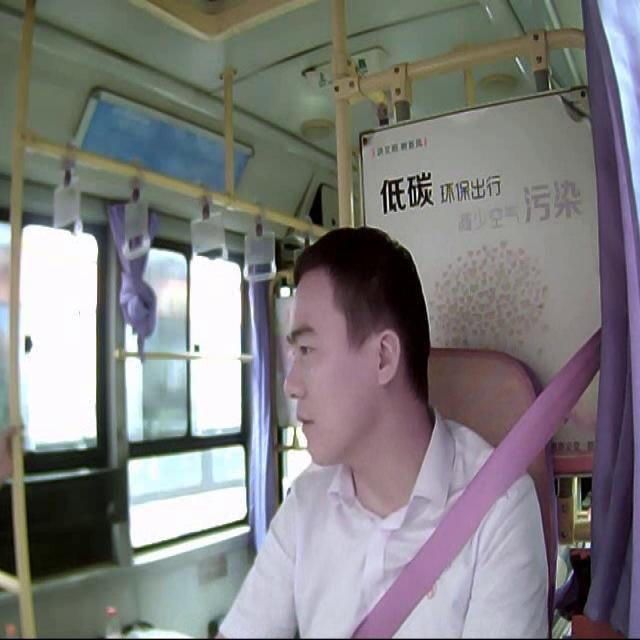Eye-Open: (296, 340, 316, 360)
Inattentive: (284, 227, 431, 467)
Normal: (296, 408, 318, 432)
